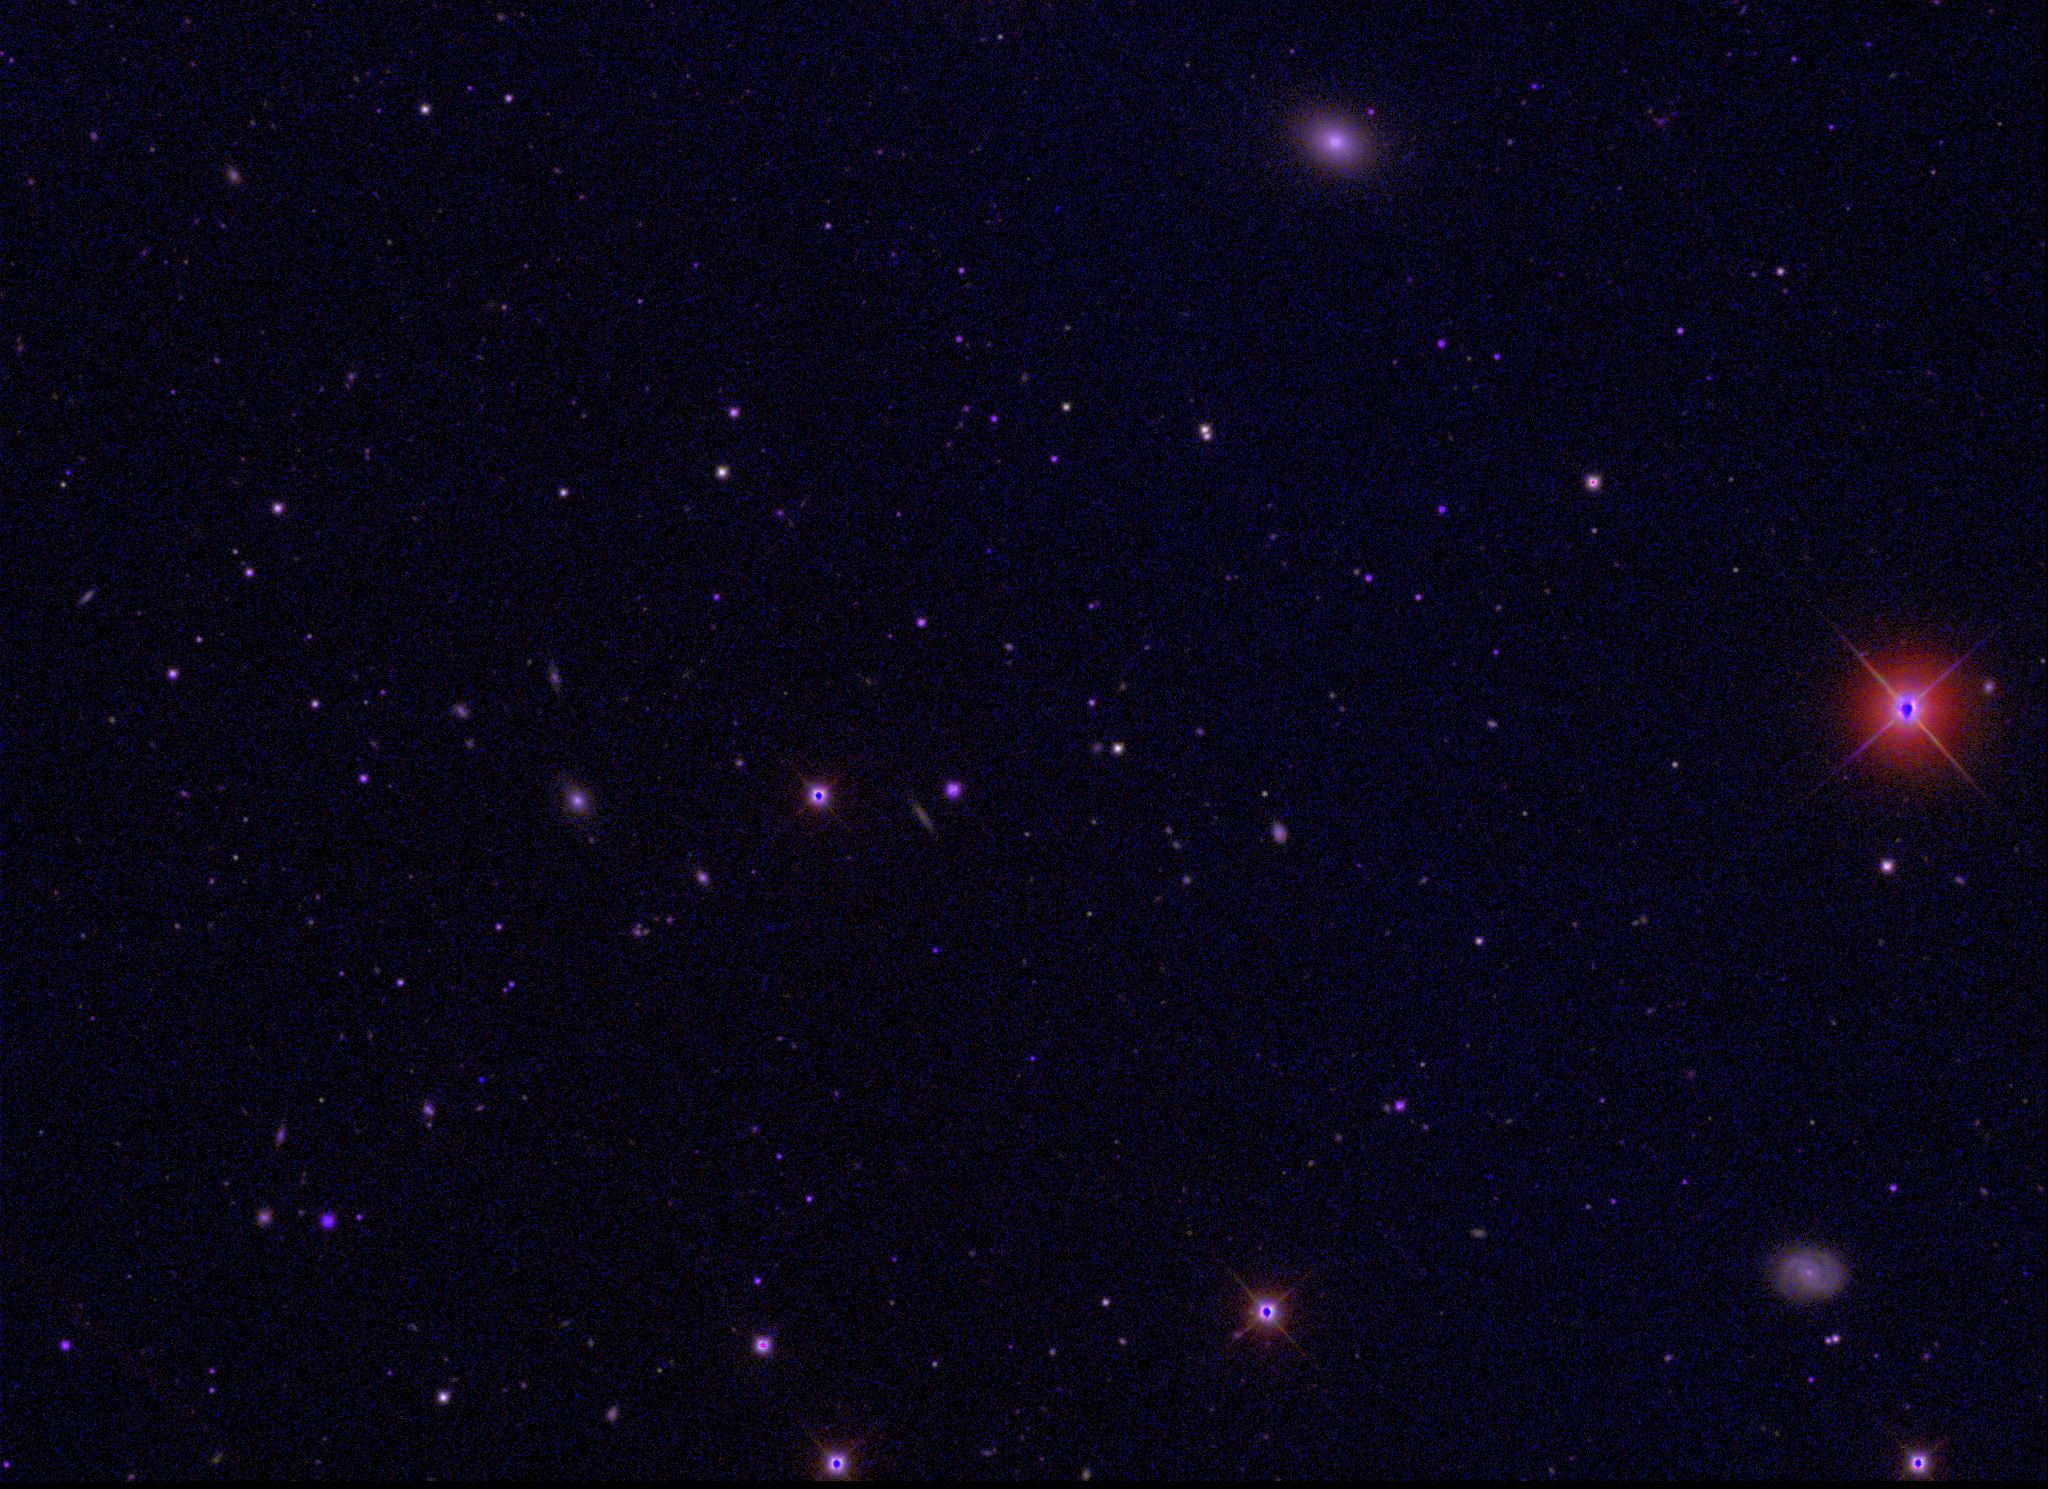L: (472, 1074, 487, 1088)
